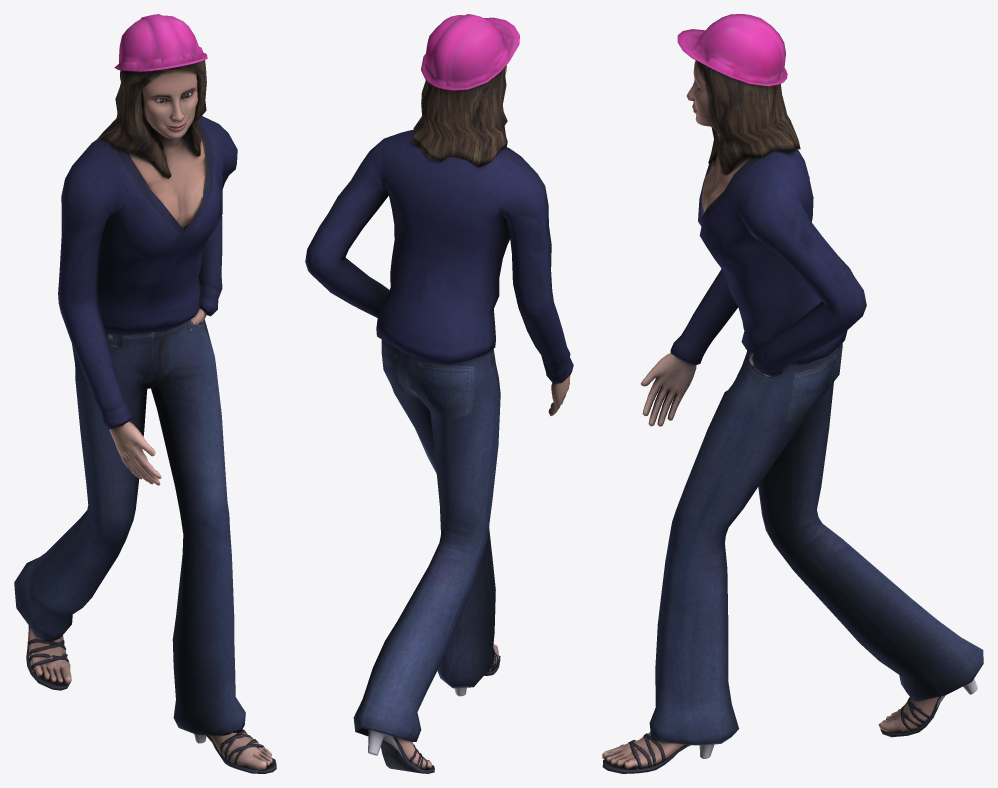
The model's file is SWRK01_08_03.FBX.
3 views of the same model, side by side, from view 1: azimuth 30°, elevation 25°; view 2: azimuth 150°, elevation 25°; view 3: azimuth 270°, elevation 25° (orthographic). The views are drawn at different scales.
Visible parts, largest first — view 1: SWRK01_08_03; view 2: SWRK01_08_03; view 3: SWRK01_08_03.
Part boxes in pixels (box(x1,y1,x2,y2)): SWRK01_08_03: box(14, 14, 276, 773); SWRK01_08_03: box(305, 14, 573, 773); SWRK01_08_03: box(602, 14, 983, 773).
Bounding box in the file's own units: 19.18 × 64.12 × 30.44.
Materials: 1 (1 with a texture image).
